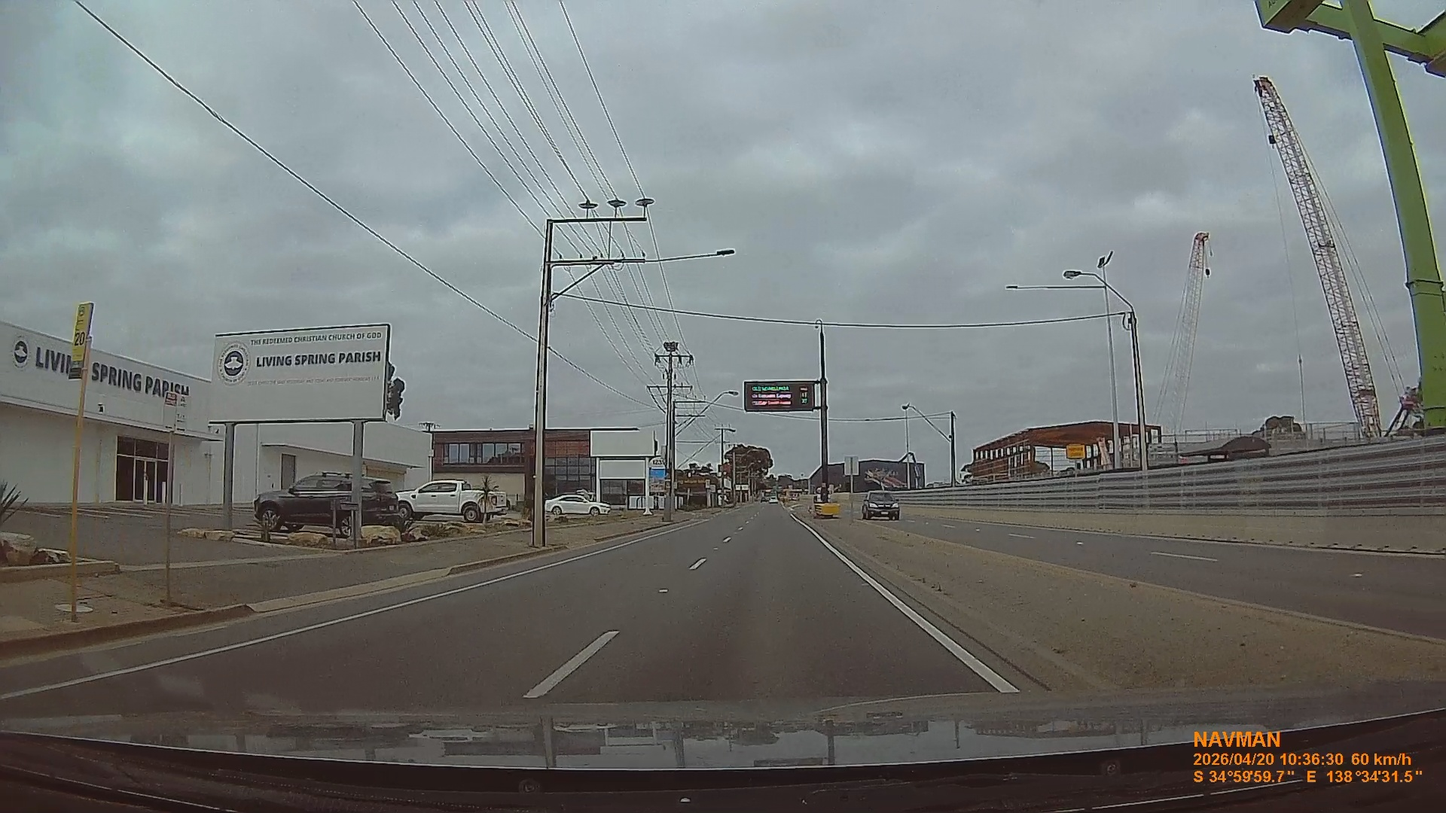fences: (892, 437, 1445, 511)
